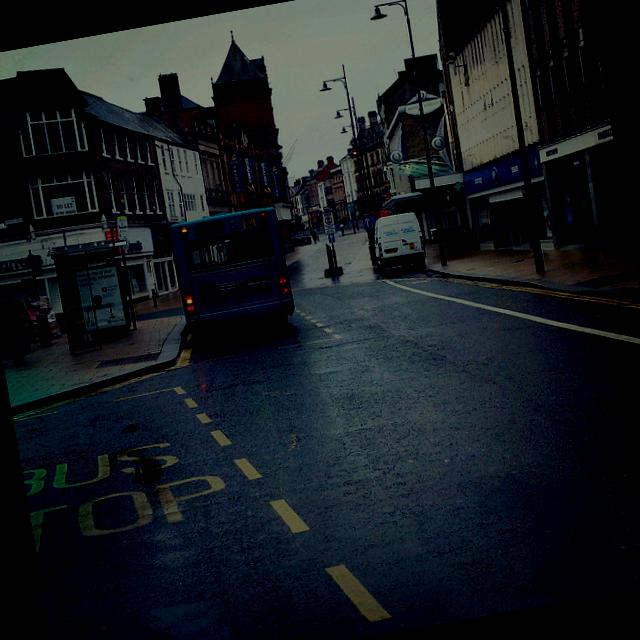Vehicle: (168, 201, 297, 343), (364, 210, 429, 276)
